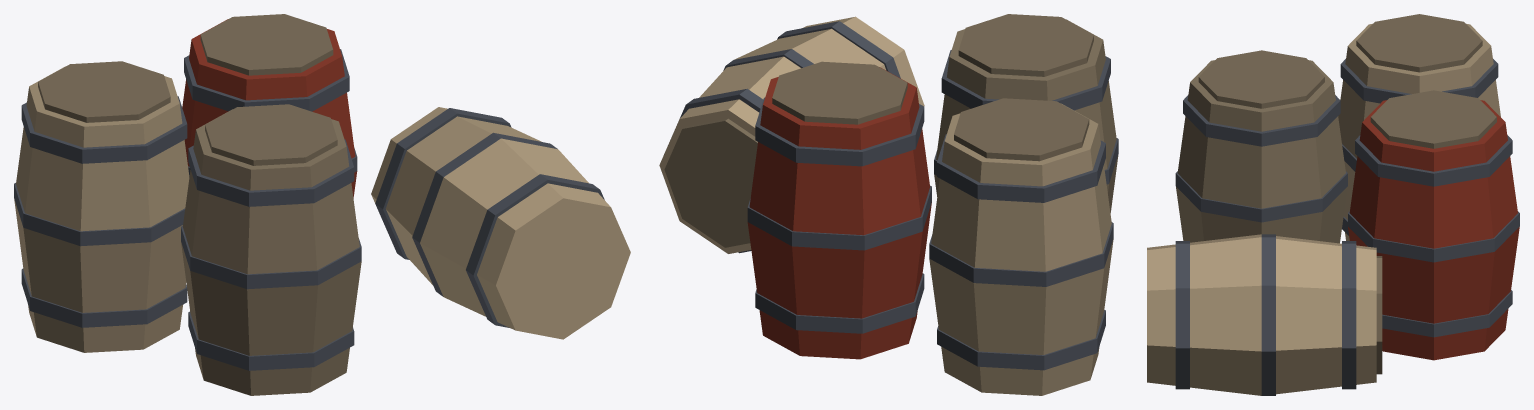
File: barrels.glb
3 renders of one model, left to right at view 1: azimuth 30°, elevation 25°; view 2: azimuth 150°, elevation 25°; view 3: azimuth 270°, elevation 25°, orthographic. The views are drawn at different scales.
Parts seen in each view (by area): view 1: driftwood_d10, driftwood_d35, driftwood_d20, slate_d30, driftwood_d40, coal_d25; view 2: driftwood_d20, coal_d25, driftwood_d40, slate_d30, driftwood_d10, driftwood_d35; view 3: driftwood_d10, coal_d25, slate_d30, driftwood_d35, driftwood_d40, driftwood_d20.
Part boxes in pixels (x1=…): driftwood_d10: x1=371, y1=107, x2=630, y2=339; driftwood_d35: x1=181, y1=109, x2=361, y2=395; driftwood_d20: x1=14, y1=66, x2=189, y2=352; slate_d30: x1=14, y1=49, x2=604, y2=370; driftwood_d40: x1=38, y1=14, x2=337, y2=165; coal_d25: x1=182, y1=19, x2=357, y2=198; driftwood_d20: x1=929, y1=103, x2=1113, y2=395; coal_d25: x1=747, y1=67, x2=931, y2=359; driftwood_d40: x1=664, y1=14, x2=1093, y2=247; slate_d30: x1=679, y1=21, x2=1118, y2=370; driftwood_d10: x1=659, y1=16, x2=924, y2=253; driftwood_d35: x1=934, y1=19, x2=1118, y2=212; driftwood_d10: x1=1147, y1=234, x2=1376, y2=395; coal_d25: x1=1348, y1=100, x2=1519, y2=360; slate_d30: x1=1175, y1=59, x2=1519, y2=395; driftwood_d35: x1=1176, y1=60, x2=1347, y2=243; driftwood_d40: x1=1198, y1=14, x2=1496, y2=374; driftwood_d20: x1=1338, y1=23, x2=1500, y2=240.
Size of the model in its own units: 1.75 by 0.82 by 1.3.
